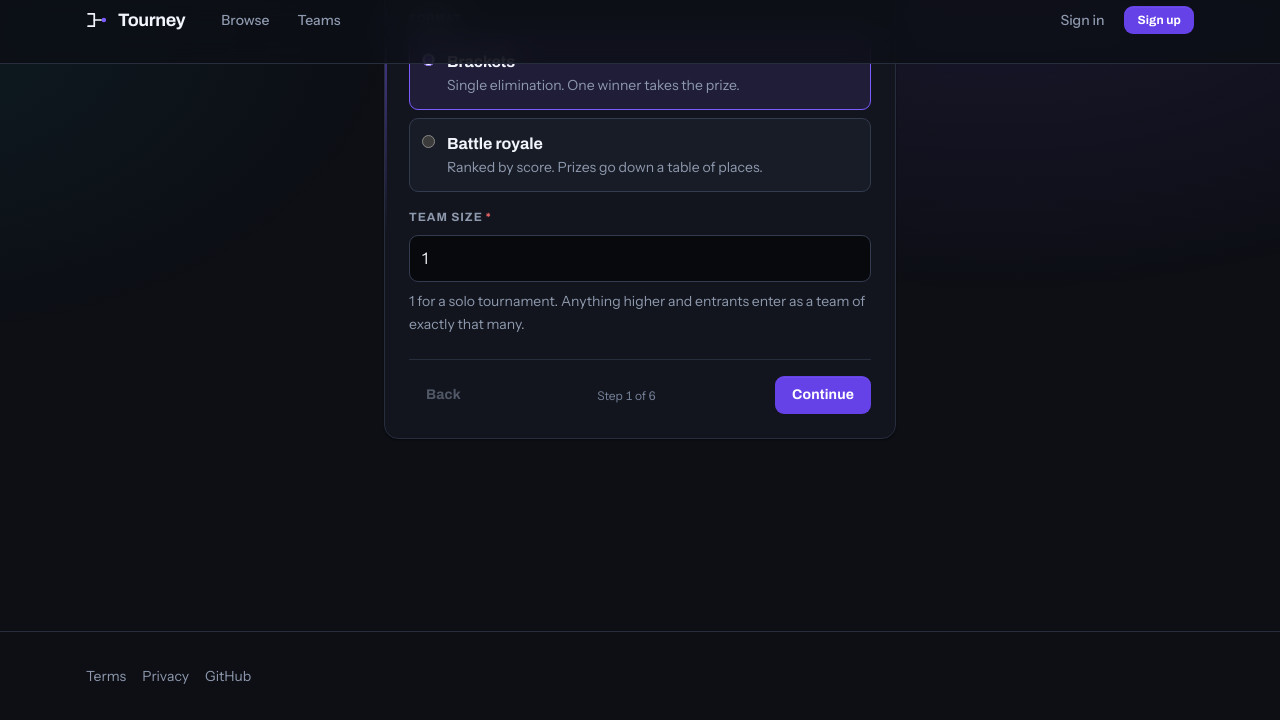
it: CreateTournamentPage wizard › advances to the details step once the format step is valid
(page scrolled)
Step 1. Click the button "Continue" → (823, 395), box [775,376,871,414]
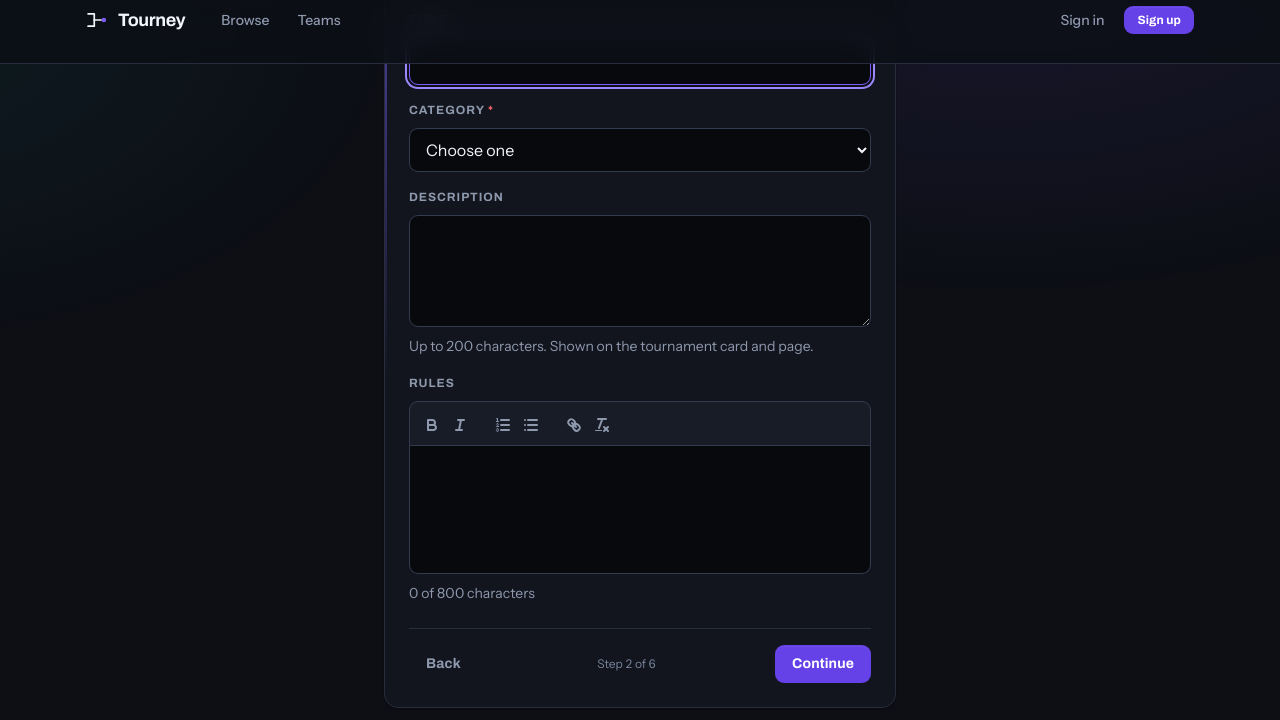
Check: the text "Step 2 of 6" is shown, box [597,654,656,674]
